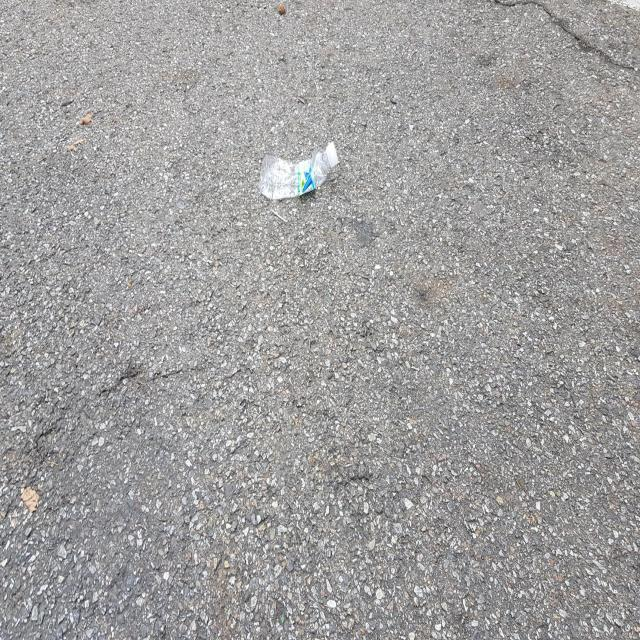plastic: (258, 141, 339, 199)
